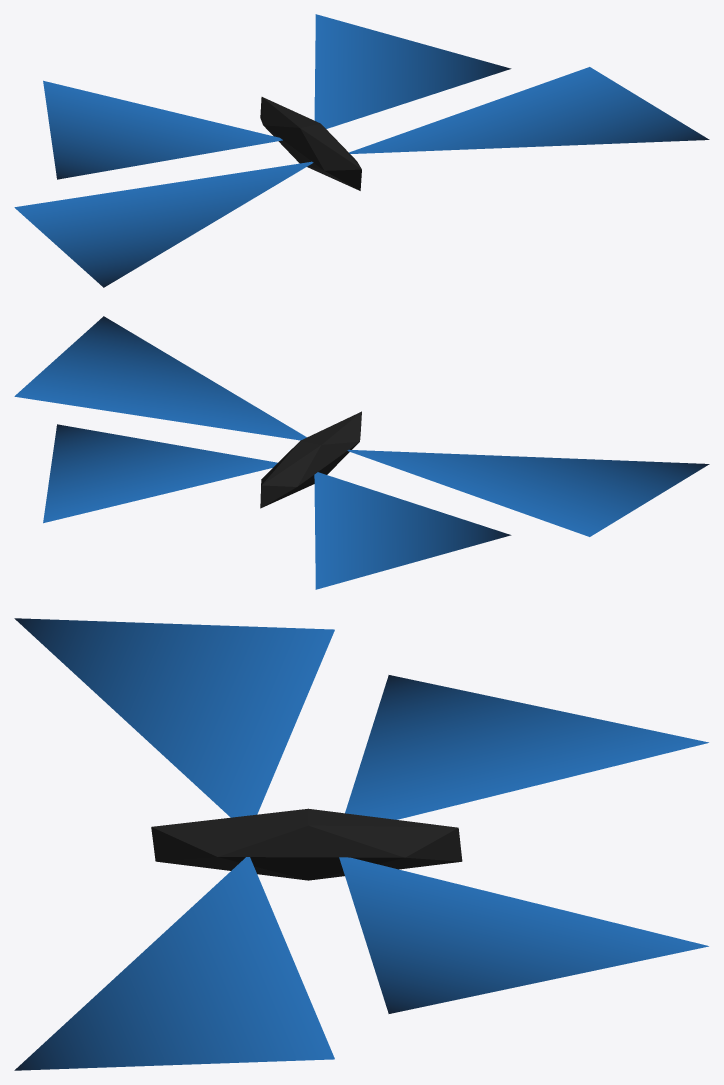
The model's file is butterfly_blue.glb.
3 views of the same model, one above another, from view 1: azimuth 30°, elevation 25°; view 2: azimuth 150°, elevation 25°; view 3: azimuth 270°, elevation 25° (orthographic). The views are drawn at different scales.
Visible parts, largest first — view 1: butterfly_blue_wing, butterfly_blue_solid; view 2: butterfly_blue_wing, butterfly_blue_solid; view 3: butterfly_blue_wing, butterfly_blue_solid.
Part boxes in pixels (x1=…): butterfly_blue_wing: x1=14, y1=14, x2=709, y2=287; butterfly_blue_solid: x1=260, y1=97, x2=361, y2=190; butterfly_blue_wing: x1=14, y1=316, x2=709, y2=589; butterfly_blue_solid: x1=260, y1=411, x2=361, y2=508; butterfly_blue_wing: x1=14, y1=618, x2=708, y2=1070; butterfly_blue_solid: x1=151, y1=808, x2=462, y2=880.
Bounding box in the file's own units: 0.18 × 0.0103 × 0.117.
